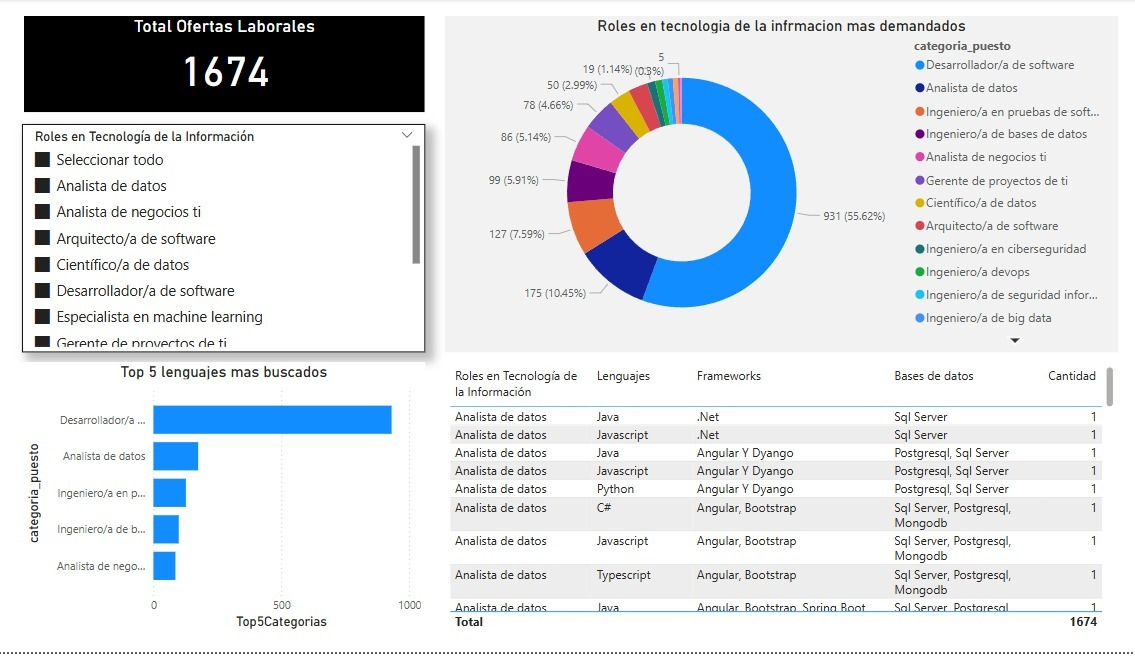

What the dashboard file says about the page in this screenshot:
{"tool":"powerbi","page":{"name":"3","canvas":[1280,720],"ordinal":2},"visuals":[{"type":"slicer","fields":{"Values":["ofertas_final_parquet (2).categoria_puesto"]},"box":[39.7,137.9,444.7,251.6],"z":0},{"type":"donutChart","title":"Roles en tecnologia de la infrmacion mas demandados","fields":{"Category":["ofertas_final_parquet (2).categoria_puesto"],"Y":["CountNonNull(ofertas_final_parquet (2).id_oferta)"]},"box":[506.5,18.8,742.6,370.8],"z":1000},{"type":"card","title":"Total Ofertas Laborales","fields":{"Values":["CountNonNull(ofertas_final_parquet (2).id_oferta)"]},"box":[41.9,18.8,442.5,105.9],"z":2000},{"type":"tableEx","fields":{"Values":["ofertas_final_parquet (2).categoria_puesto","ofertas_final_parquet (2).Valor","ofertas_final_parquet (2).frameworks_lista","ofertas_final_parquet (2).bases_datos_lista","CountNonNull(ofertas_final_parquet (2).categoria_puesto)"]},"box":[506,401,743.1,299.8],"z":3000},{"type":"barChart","title":"Top 5 roles mas buscados","fields":{"Category":["ofertas_final_parquet (2).categoria_puesto"],"Y":["ofertas_final_parquet (2).Top5Categorias"]},"box":[39.5,401,445.3,299.8],"z":4000}]}

Visuals, with their boxes on the page's 1280x720 design canvas (x1, y1, x2, y2). These are canvas units, not pixel positions in the 1135x659 screenshot, which may show the page scaled, cropped or inside an application window:
slicer - ofertas_final_parquet (2).categoria_puesto: box=[40, 138, 484, 390]
"Roles en tecnologia de la infrmacion mas demandados" donutChart: box=[506, 19, 1249, 390]
"Total Ofertas Laborales" card: box=[42, 19, 484, 125]
tableEx - ofertas_final_parquet (2).categoria_puesto x ofertas_final_parquet (2).Valor: box=[506, 401, 1249, 701]
"Top 5 roles mas buscados" barChart: box=[40, 401, 485, 701]
